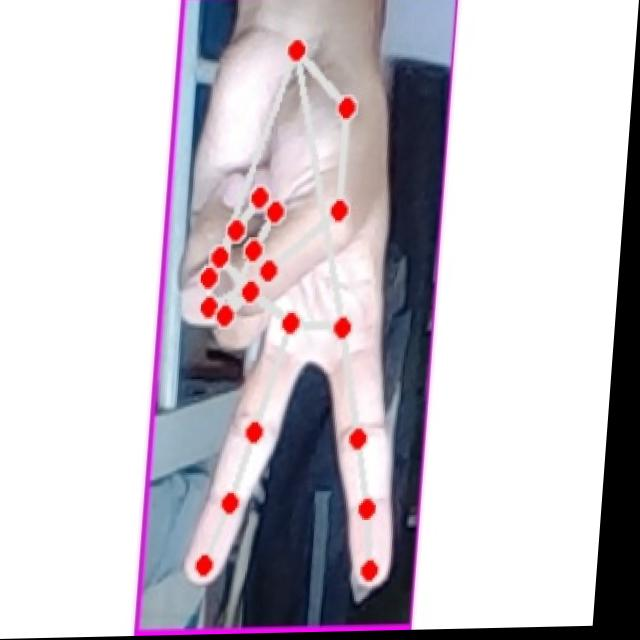V: (165, 37, 443, 588)
